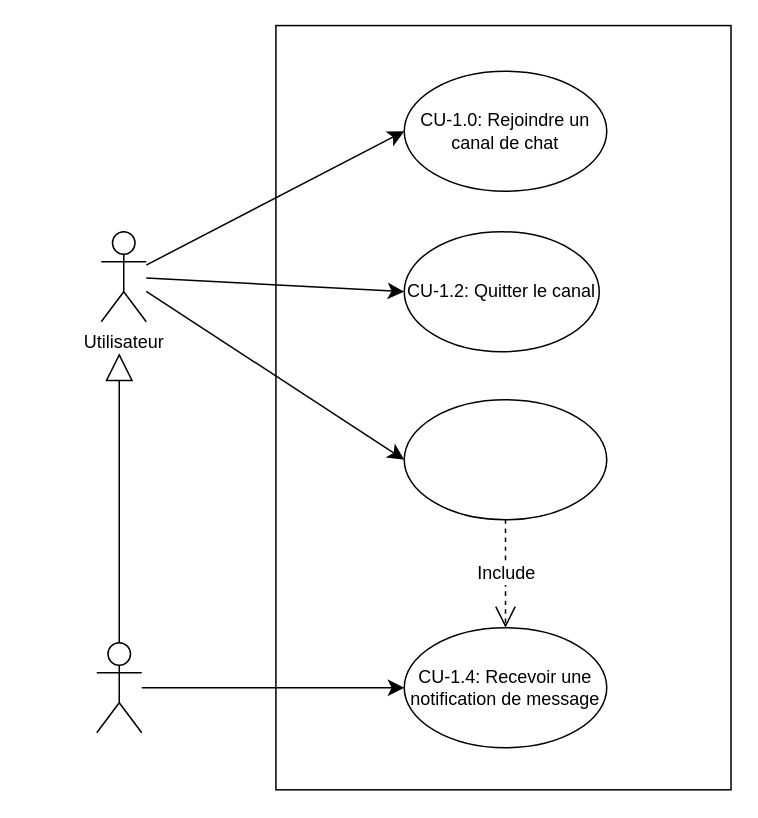
Some shapes in this 758 by 818 pixel diagram are drawn without their labels. The shapes that lost their labels are listed below. From the top down, each one's centre as x and y in pixels, then its label:
At (x=505, y=459): "CU-1.3: Envoyer un message".
At (x=118, y=687): "Utilisateur (Client léger)".
